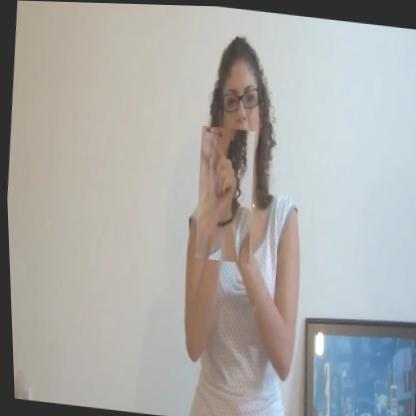NiceToMeetYou: (190, 124, 258, 263)
